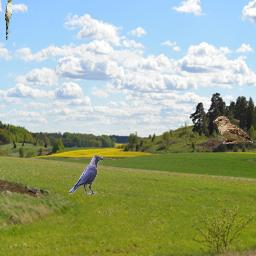Crow: (69, 155, 103, 195)
Cuckoo: (5, 0, 12, 40)
Sparrow: (213, 116, 253, 144)
